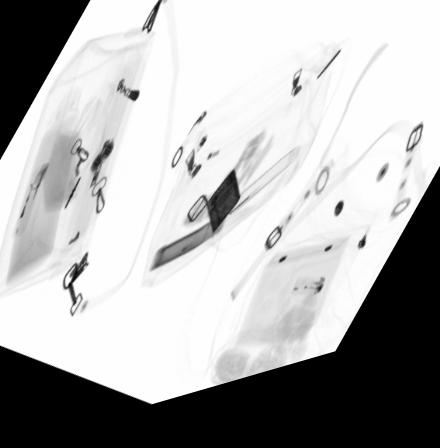Lighter: (8, 163, 49, 238), (204, 180, 241, 245)
